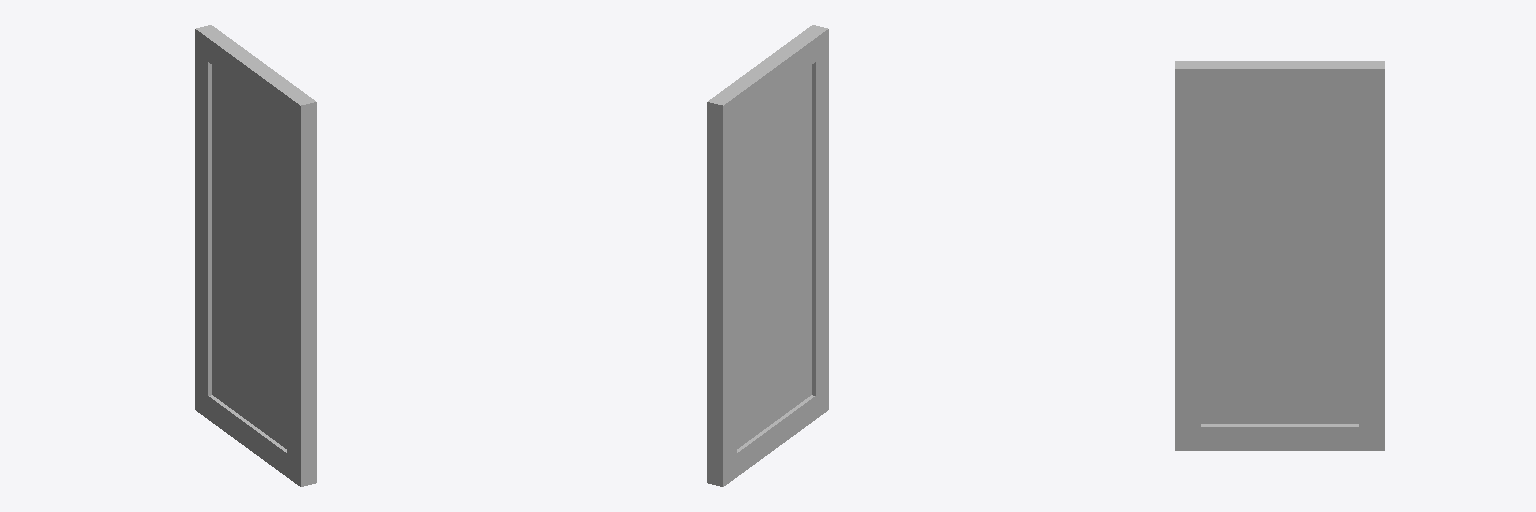
The model's file is camekan.obj.
The picture shows the model from 3 angles: view 1: azimuth 30°, elevation 25°; view 2: azimuth 150°, elevation 25°; view 3: azimuth 270°, elevation 25°; orthographic projection.
Visible parts, largest first — view 1: Cube.003; view 2: Cube.003; view 3: Cube.003.
Boxes of the visible parts, box(x1,y1,x2,y2) form: Cube.003: box(195, 25, 316, 486); Cube.003: box(707, 25, 828, 486); Cube.003: box(1175, 61, 1384, 450).
Bounding box in the file's own units: 0.1768 × 4 × 2.